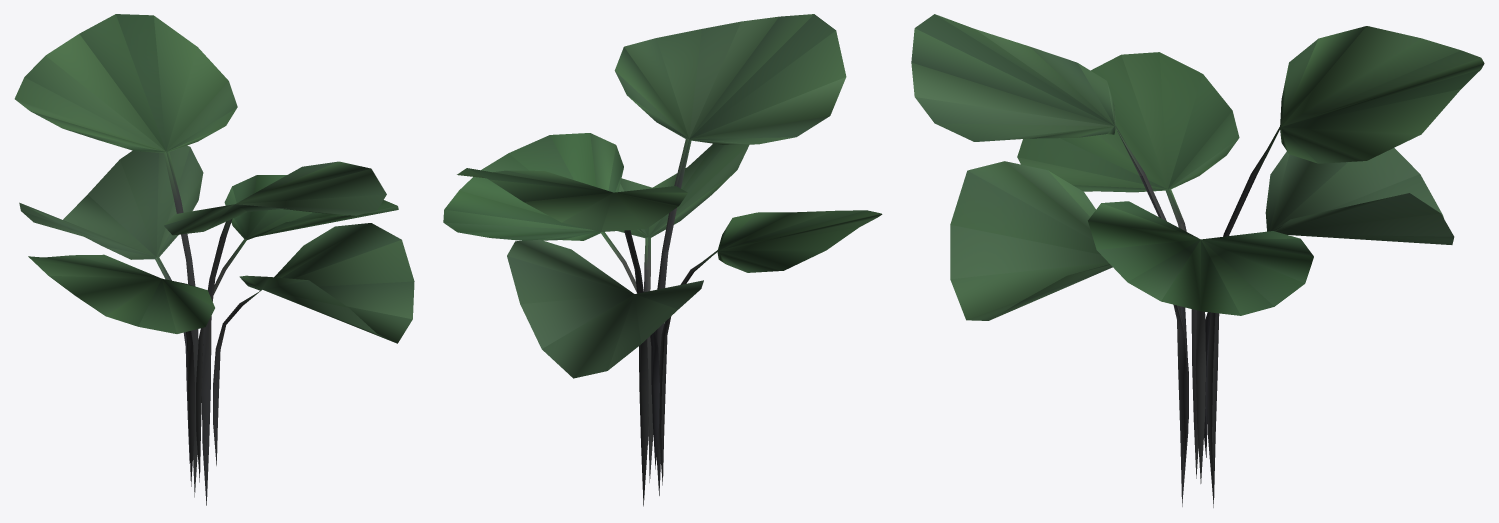
The model's file is plants-leafy-plants-round-leaf-plant_v4.glb.
The picture shows the model from 3 angles, left to right: view 1: azimuth 30°, elevation 25°; view 2: azimuth 150°, elevation 25°; view 3: azimuth 270°, elevation 25°; orthographic projection. The views are drawn at different scales.
Parts seen in each view (by area): view 1: Round Leaf Plant_v4; view 2: Round Leaf Plant_v4; view 3: Round Leaf Plant_v4.
Boxes of the visible parts, left/top/right/bottom form: Round Leaf Plant_v4: left=14, top=14, right=414, bottom=505; Round Leaf Plant_v4: left=443, top=14, right=882, bottom=506; Round Leaf Plant_v4: left=911, top=14, right=1484, bottom=507.
Size of the model in its own units: 0.4356 by 0.4424 by 0.5.
